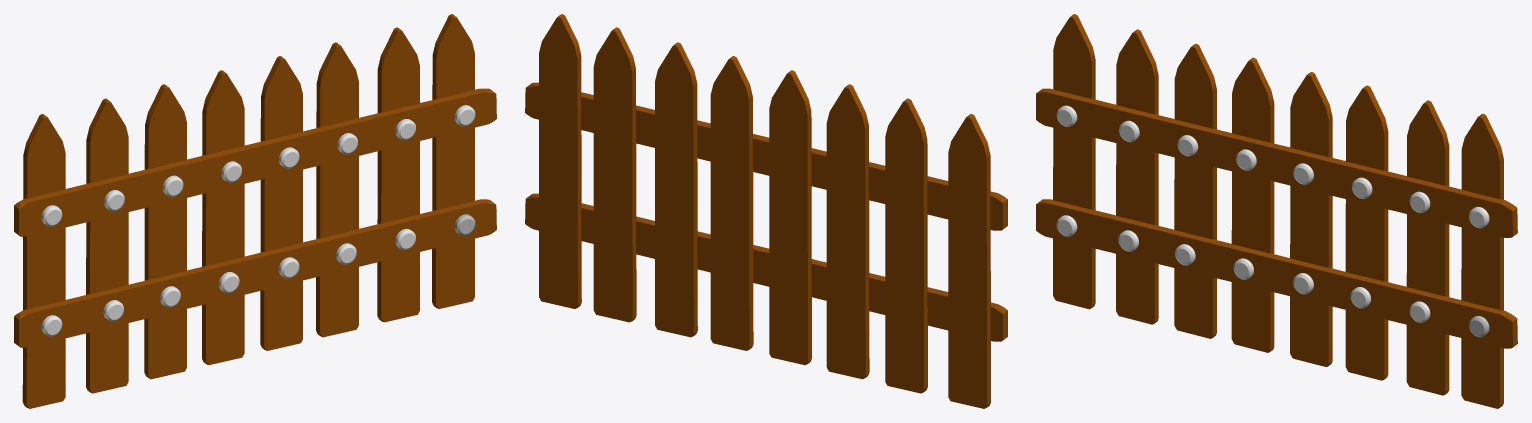
3 renders of one model, left to right at view 1: azimuth 30°, elevation 25°; view 2: azimuth 150°, elevation 25°; view 3: azimuth 330°, elevation 25°, orthographic.
Parts seen in each view (by area): view 1: Plane.009, Plane.008, Plane.007, Plane.010, Plane.001, Plane.006, Plane.003, Plane.002, Plane.005, Plane.004; view 2: Plane.010, Plane.002, Plane.004, Plane.005, Plane.006, Plane.003, Plane.001, Plane.007, Plane.008, Plane.009; view 3: Plane.009, Plane.008, Plane.001, Plane.010, Plane.003, Plane.007, Plane.002, Plane.004, Plane.005, Plane.006.
Part boxes in pixels (x1=…): Plane.009: x1=14, y1=199, x2=496, y2=347; Plane.008: x1=14, y1=88, x2=496, y2=236; Plane.007: x1=432, y1=14, x2=474, y2=308; Plane.010: x1=377, y1=27, x2=419, y2=322; Plane.001: x1=316, y1=42, x2=358, y2=337; Plane.006: x1=22, y1=114, x2=65, y2=408; Plane.003: x1=202, y1=70, x2=244, y2=364; Plane.002: x1=260, y1=56, x2=302, y2=350; Plane.005: x1=86, y1=98, x2=128, y2=393; Plane.004: x1=144, y1=84, x2=186, y2=379; Plane.010: x1=593, y1=27, x2=636, y2=322; Plane.002: x1=710, y1=56, x2=753, y2=350; Plane.004: x1=826, y1=84, x2=869, y2=379; Plane.005: x1=885, y1=98, x2=927, y2=393; Plane.006: x1=948, y1=114, x2=990, y2=408; Plane.003: x1=769, y1=70, x2=811, y2=365; Plane.001: x1=655, y1=42, x2=697, y2=337; Plane.007: x1=539, y1=14, x2=581, y2=308; Plane.008: x1=525, y1=82, x2=1007, y2=230; Plane.009: x1=525, y1=193, x2=1007, y2=341; Plane.009: x1=1036, y1=199, x2=1517, y2=348; Plane.008: x1=1036, y1=88, x2=1517, y2=237; Plane.001: x1=1345, y1=85, x2=1388, y2=380; Plane.010: x1=1406, y1=100, x2=1449, y2=395; Plane.003: x1=1231, y1=57, x2=1274, y2=352; Plane.007: x1=1461, y1=113, x2=1503, y2=408; Plane.002: x1=1290, y1=72, x2=1332, y2=366; Plane.004: x1=1174, y1=43, x2=1216, y2=338; Plane.005: x1=1116, y1=29, x2=1158, y2=324; Plane.006: x1=1053, y1=14, x2=1095, y2=309.
Size of the model in its own units: 459 by 265 by 19.2.
